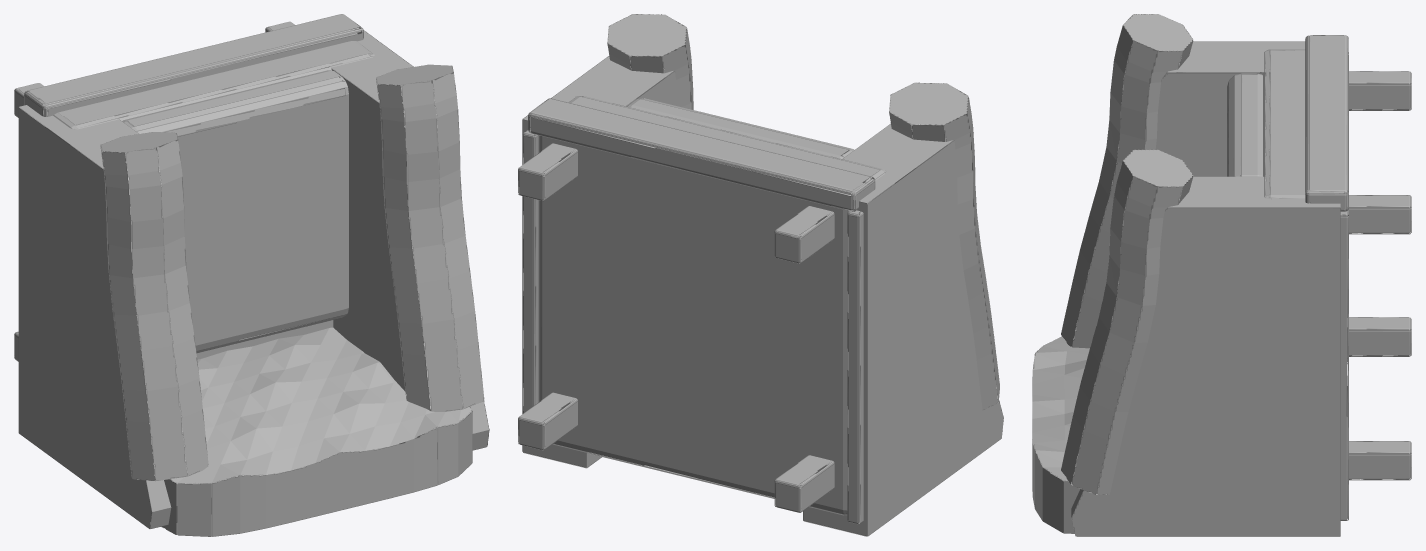
Rendered from pz_chair_seating_indoor_03_victorian_5.obj.
The picture shows the model from 3 angles, left to right: view 1: azimuth 30°, elevation 25°; view 2: azimuth 150°, elevation 25°; view 3: azimuth 270°, elevation 25°; orthographic projection. The views are drawn at different scales.
Visible parts, largest first — view 1: Victorian_5_|_rounded_seat_cushion_0, Victorian_5_|_closed_curved_padded_back, Victorian_5_|_closed_upholstered_side_-1, Victorian_5_|_EDITABLE_rolled_upholstered_arm_-1, Victorian_5_|_EDITABLE_rolled_upholstered_arm_1, Victorian_5_|_closed_upholstered_side_1, Victorian_5_|_native_front_wooden_apron, Victorian_5_|_closed_upholstered_base; view 2: Victorian_5_|_closed_upholstered_base, Victorian_5_|_closed_upholstered_side_-1, Victorian_5_|_native_front_wooden_apron, Victorian_5_|_EDITABLE_rolled_upholstered_arm_-1, Victorian_5_|_wood_side_plinth_-0.443, Victorian_5_|_closed_upholstered_side_1, Victorian_5_|_EDITABLE_rolled_upholstered_arm_1, Victorian_5_|_wood_side_plinth_0.443, Victorian_5_|_rounded_seat_cushion_0, Victorian_5_|_short_wood_foot_(-0.35,_0.35), Victorian_5_|_short_wood_foot_(-0.35,_-0.3), Victorian_5_|_short_wood_foot_(0.35,_-0.3) (+1 smaller); view 3: Victorian_5_|_closed_upholstered_side_1, Victorian_5_|_EDITABLE_rolled_upholstered_arm_1, Victorian_5_|_EDITABLE_rolled_upholstered_arm_-1, Victorian_5_|_closed_upholstered_side_-1, Victorian_5_|_closed_curved_padded_back, Victorian_5_|_native_front_wooden_apron, Victorian_5_|_closed_upholstered_base, Victorian_5_|_rounded_seat_cushion_0, Victorian_5_|_wood_side_plinth_0.443, Victorian_5_|_short_wood_foot_(0.35,_0.35), Victorian_5_|_short_wood_foot_(-0.35,_-0.3), Victorian_5_|_short_wood_foot_(-0.35,_0.35) (+1 smaller).
Part boxes in pixels (left/top/right/bottom): Victorian_5_|_rounded_seat_cushion_0: left=122, top=70, right=349, bottom=353; Victorian_5_|_closed_curved_padded_back: left=145, top=327, right=472, bottom=536; Victorian_5_|_closed_upholstered_side_-1: left=18, top=102, right=211, bottom=528; Victorian_5_|_EDITABLE_rolled_upholstered_arm_-1: left=100, top=132, right=208, bottom=481; Victorian_5_|_EDITABLE_rolled_upholstered_arm_1: left=376, top=64, right=484, bottom=411; Victorian_5_|_closed_upholstered_side_1: left=293, top=29, right=489, bottom=458; Victorian_5_|_native_front_wooden_apron: left=24, top=14, right=363, bottom=116; Victorian_5_|_closed_upholstered_base: left=40, top=31, right=378, bottom=359; Victorian_5_|_closed_upholstered_base: left=538, top=96, right=891, bottom=515; Victorian_5_|_closed_upholstered_side_-1: left=803, top=123, right=1003, bottom=536; Victorian_5_|_native_front_wooden_apron: left=528, top=98, right=875, bottom=211; Victorian_5_|_EDITABLE_rolled_upholstered_arm_-1: left=889, top=82, right=999, bottom=410; Victorian_5_|_wood_side_plinth_-0.443: left=847, top=199, right=872, bottom=524; Victorian_5_|_closed_upholstered_side_1: left=522, top=56, right=677, bottom=468; Victorian_5_|_EDITABLE_rolled_upholstered_arm_1: left=607, top=14, right=693, bottom=109; Victorian_5_|_wood_side_plinth_0.443: left=522, top=130, right=539, bottom=413; Victorian_5_|_rounded_seat_cushion_0: left=626, top=98, right=854, bottom=159; Victorian_5_|_short_wood_foot_(-0.35,_0.35): left=774, top=206, right=834, bottom=263; Victorian_5_|_short_wood_foot_(-0.35,_-0.3): left=774, top=455, right=834, bottom=512; Victorian_5_|_short_wood_foot_(0.35,_-0.3): left=518, top=392, right=577, bottom=450; Victorian_5_|_closed_upholstered_side_1: left=1071, top=176, right=1340, bottom=536; Victorian_5_|_EDITABLE_rolled_upholstered_arm_1: left=1061, top=149, right=1193, bottom=495; Victorian_5_|_EDITABLE_rolled_upholstered_arm_-1: left=1061, top=14, right=1193, bottom=348; Victorian_5_|_closed_upholstered_side_-1: left=1145, top=41, right=1305, bottom=176; Victorian_5_|_closed_curved_padded_back: left=1032, top=336, right=1089, bottom=533; Victorian_5_|_native_front_wooden_apron: left=1305, top=35, right=1348, bottom=211; Victorian_5_|_closed_upholstered_base: left=1260, top=49, right=1344, bottom=216; Victorian_5_|_rounded_seat_cushion_0: left=1227, top=73, right=1270, bottom=176; Victorian_5_|_wood_side_plinth_0.443: left=1340, top=210, right=1348, bottom=520; Victorian_5_|_short_wood_foot_(0.35,_0.35): left=1347, top=195, right=1411, bottom=234; Victorian_5_|_short_wood_foot_(-0.35,_-0.3): left=1347, top=317, right=1411, bottom=356; Victorian_5_|_short_wood_foot_(-0.35,_0.35): left=1349, top=71, right=1411, bottom=110.
Size of the model in its own units: 0.9787 by 0.9708 by 0.9088.
1 material, 1 textured.
